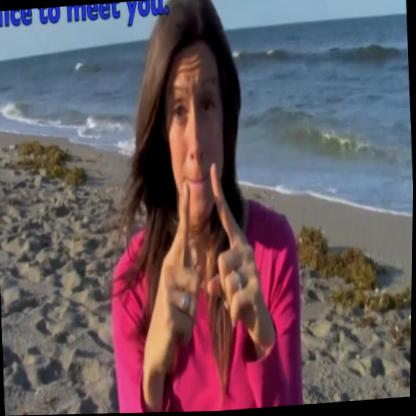NiceToMeetYou: (142, 145, 282, 371)
